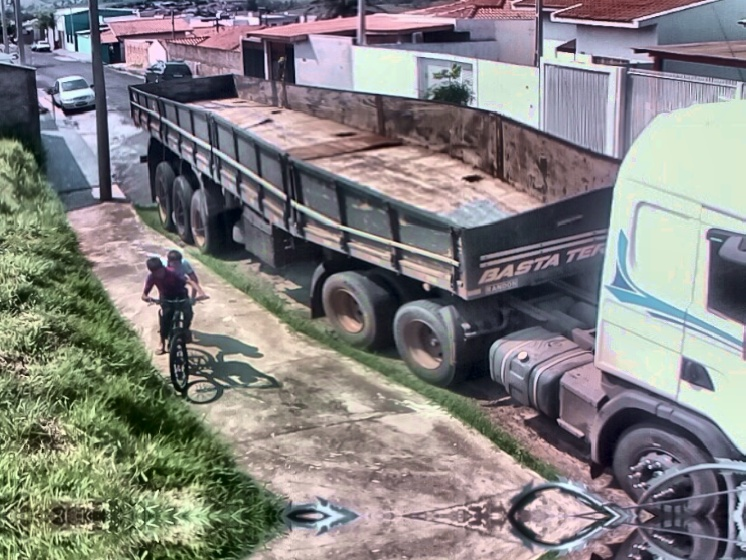person: (141, 254, 195, 355), (164, 248, 201, 341)
